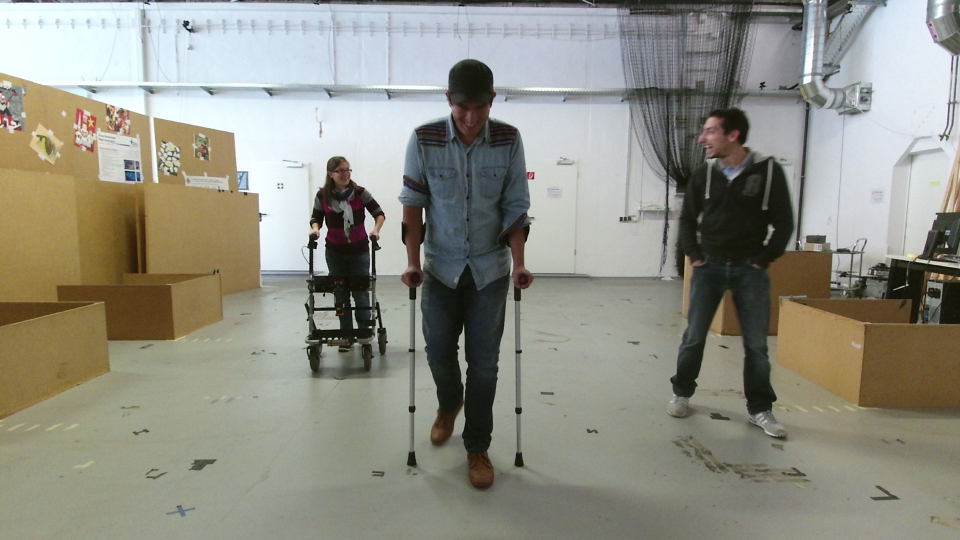crutches: (387, 54, 544, 489)
